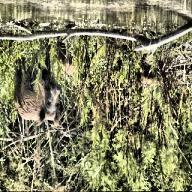boar: (13, 46, 64, 128)
